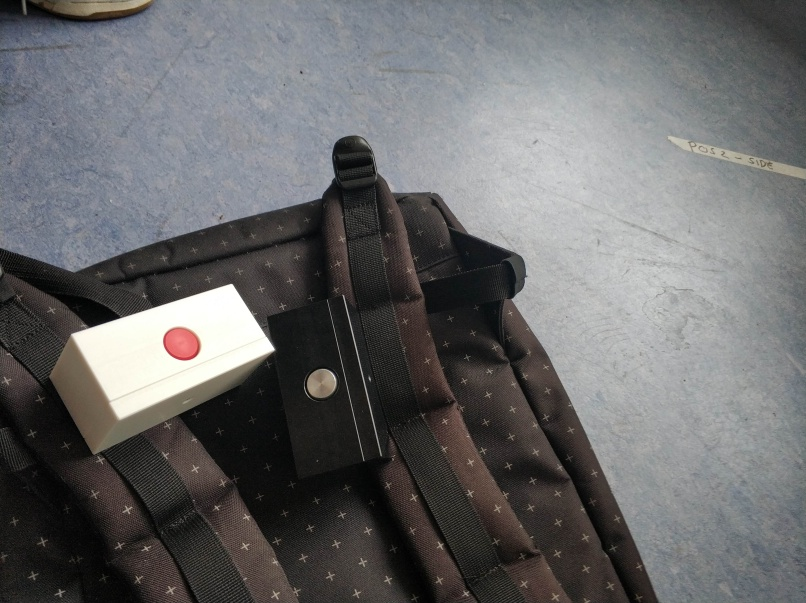black+black+silver: (263, 293, 396, 484)
white+white+red: (44, 280, 280, 460)
